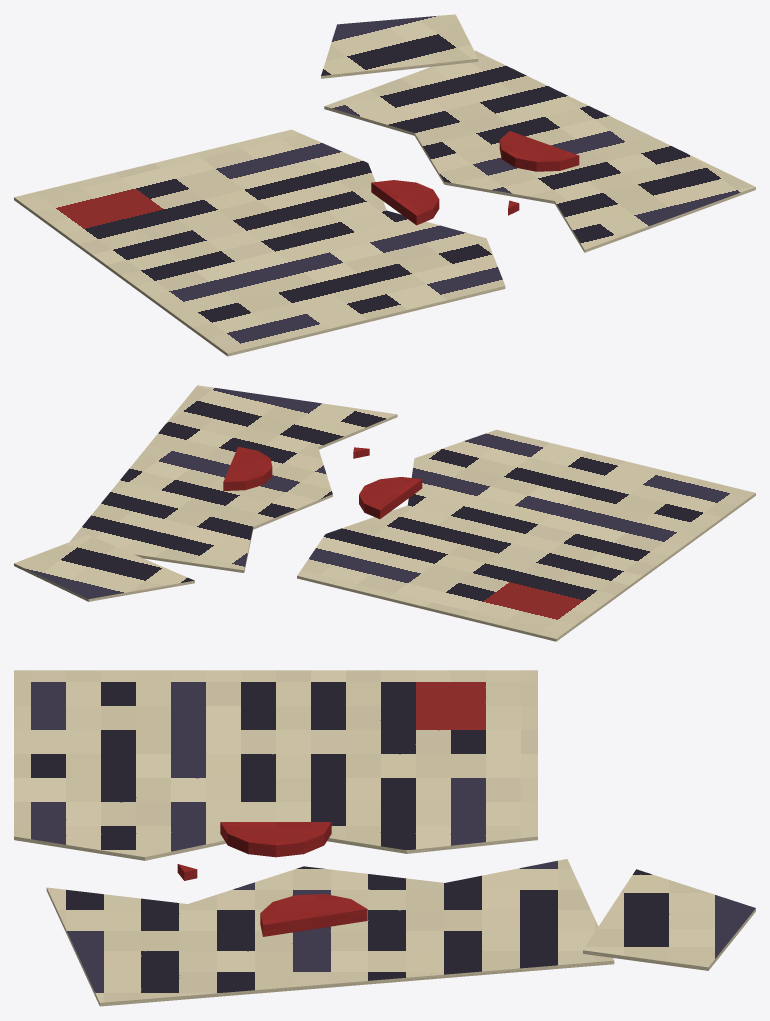
The model's file is torn-letter.glb.
3 views of the same model, one above another, from view 1: azimuth 30°, elevation 25°; view 2: azimuth 150°, elevation 25°; view 3: azimuth 270°, elevation 25° (orthographic). The views are drawn at different scales.
Visible parts, largest first — view 1: torn-letter.001; view 2: torn-letter.001; view 3: torn-letter.001.
Boxes of the visible parts, <box> form: torn-letter.001: <box>14,14,755,356</box>; torn-letter.001: <box>14,385,755,641</box>; torn-letter.001: <box>14,670,755,1006</box>.
Size of the model in its own units: 0.2434 by 0.0067 by 0.2266.
1 material, 1 textured.
